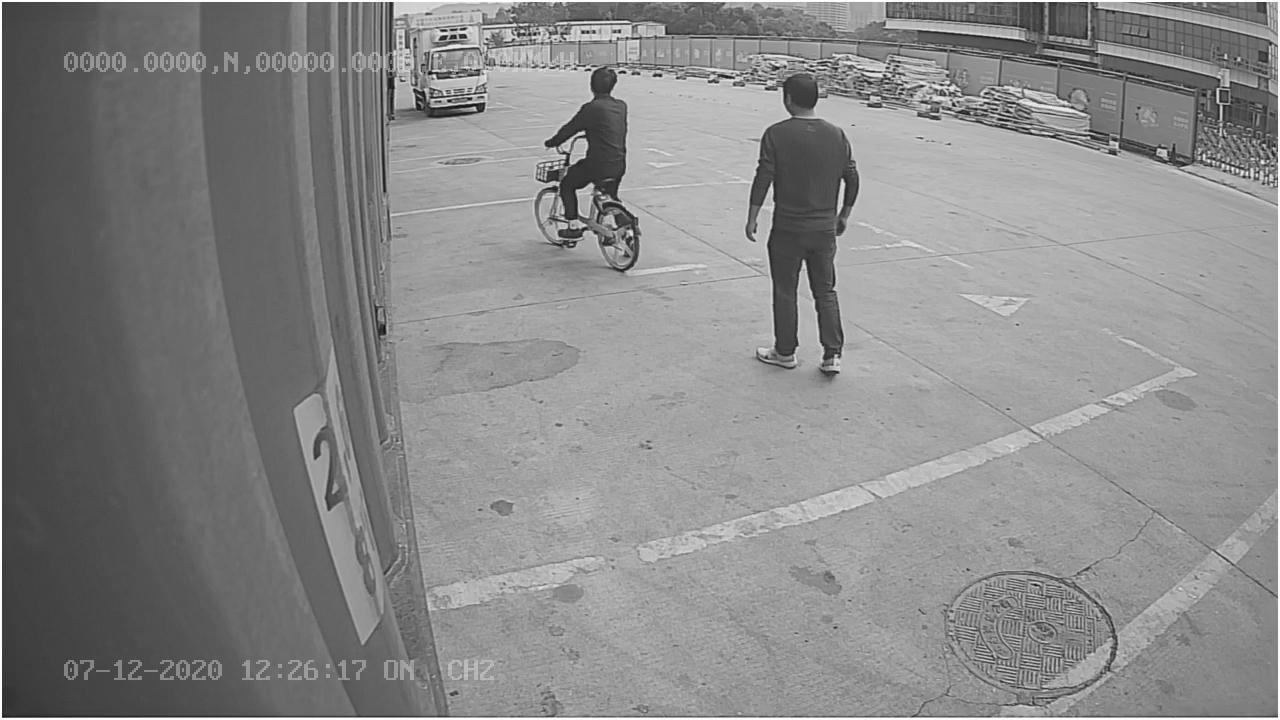person: (736, 67, 864, 384)
